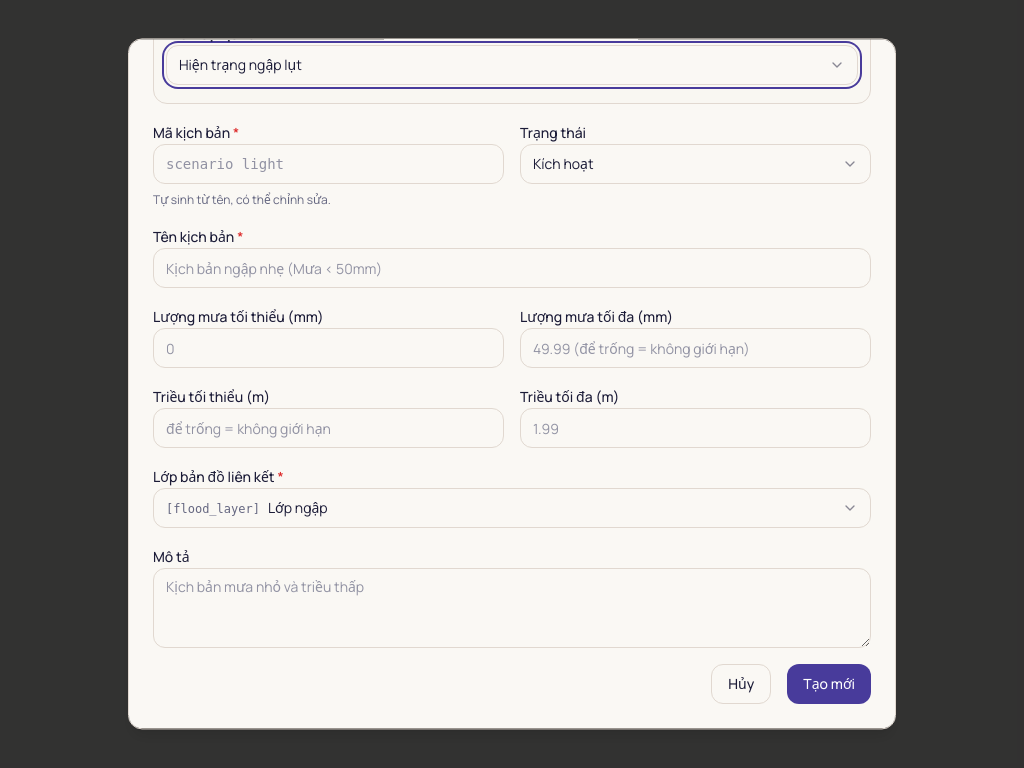
Test case: KttvScenarioFormDialog › renders create mode and validates required fields
(page scrolled)
Step 1. Click the button "Tạo mới" → coordinates (829, 684), box [787,664,871,704]
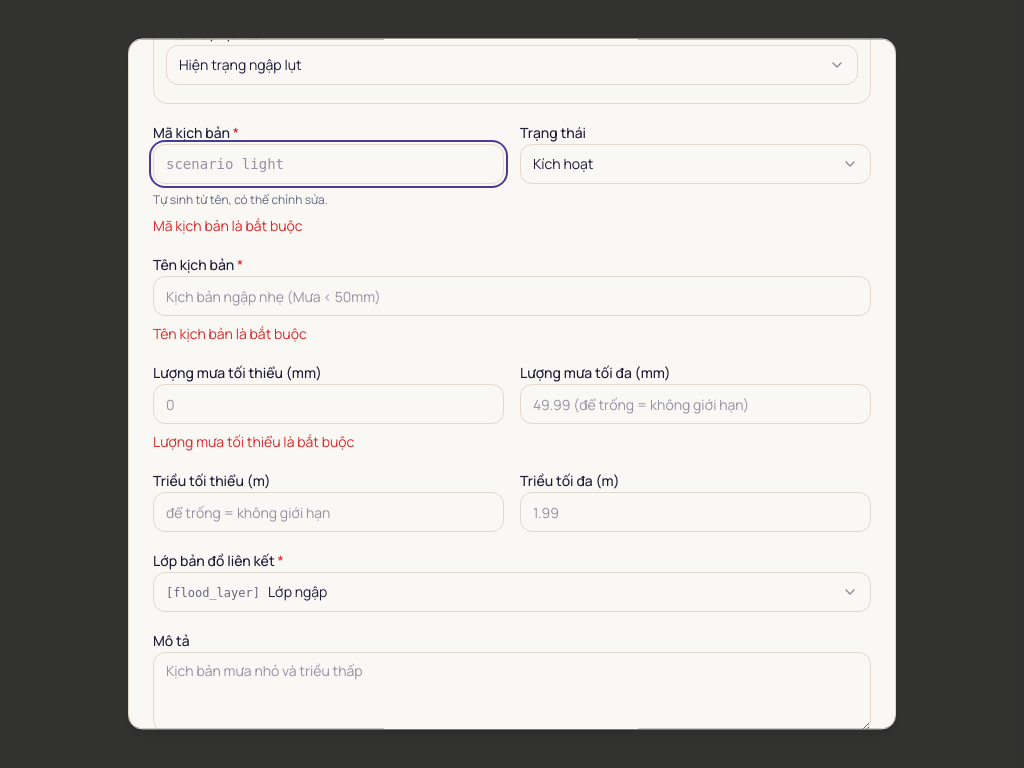
Now the text "Mã kịch bản là bắt buộc" is shown, box [153,216,303,235]
Now the text "Tên kịch bản là bắt buộc" is shown, box [153,324,307,343]
